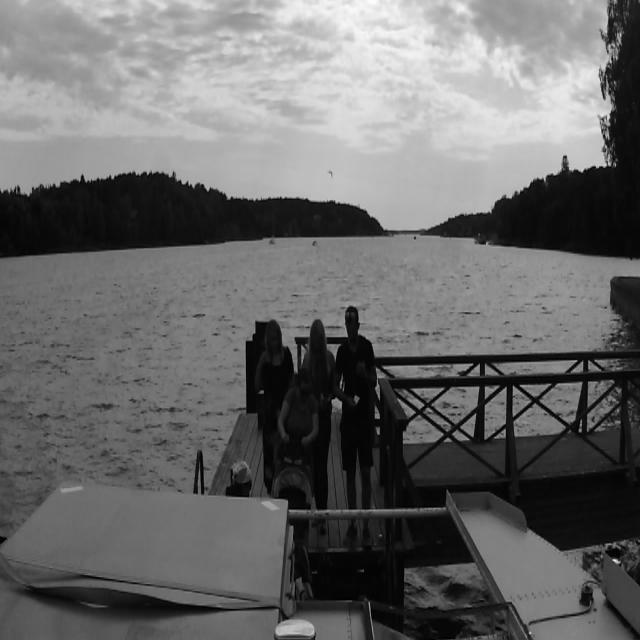ship: (269, 233, 275, 245), (312, 241, 317, 246)
